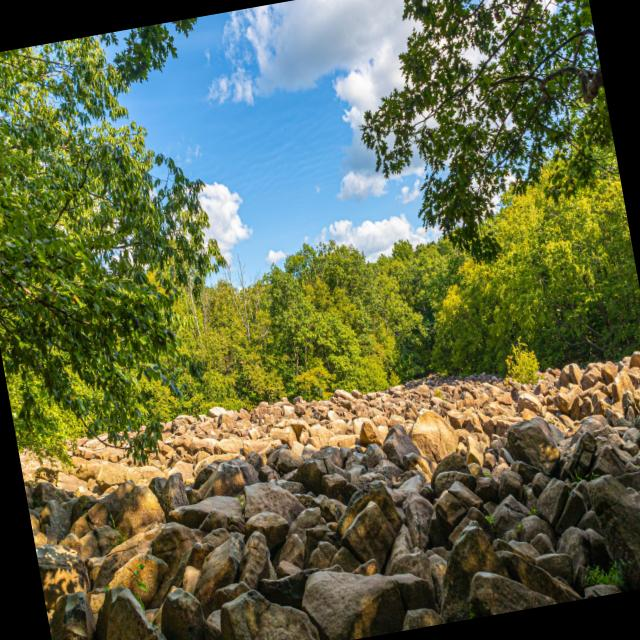rocks: (19, 353, 640, 640)
